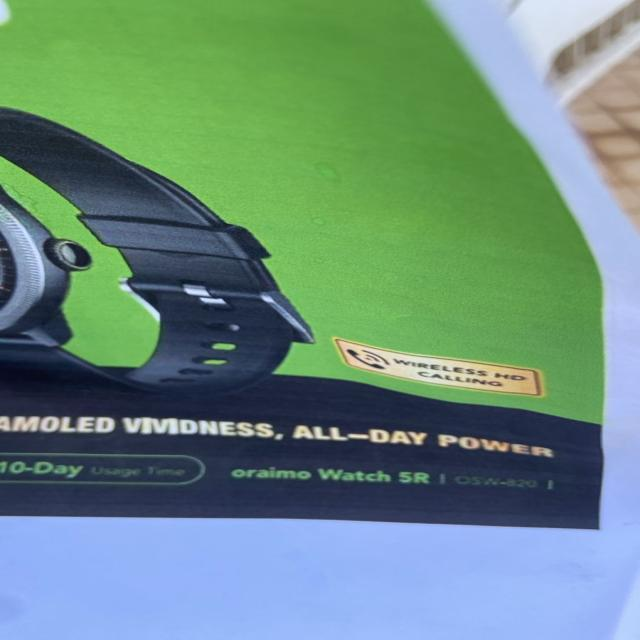Oraimo Watch 5R OSW-820: (224, 458, 567, 504)
